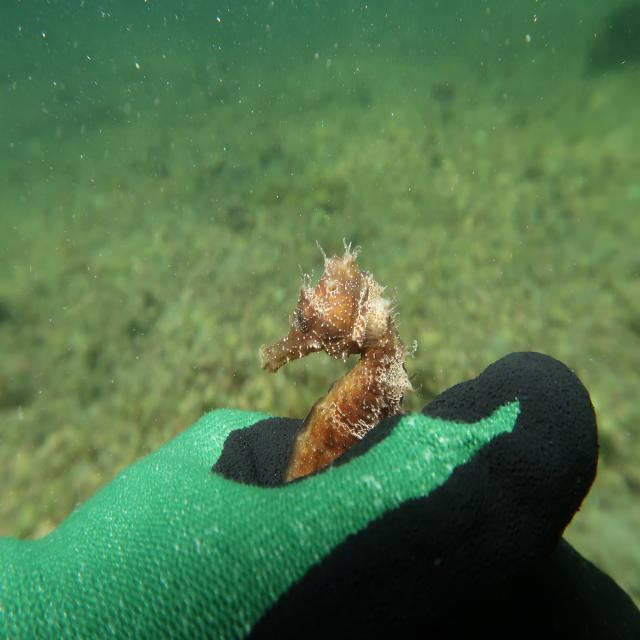Guttu: (253, 240, 393, 378)
